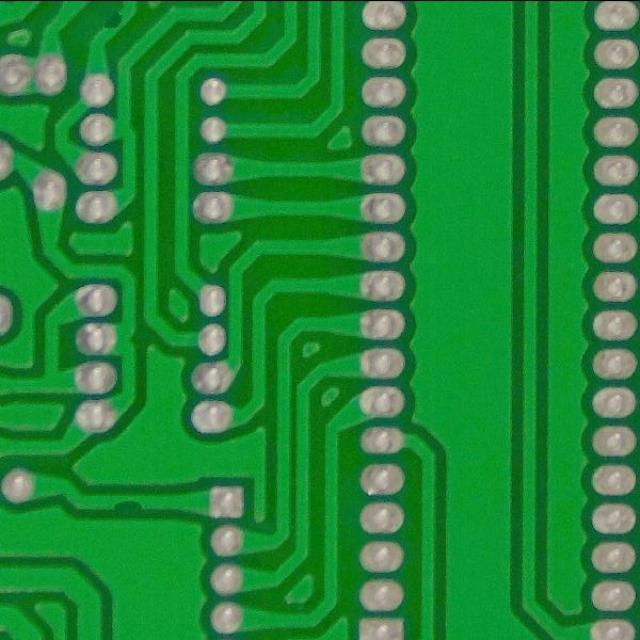mouse_bite: (96, 5, 130, 38), (107, 490, 144, 520)
